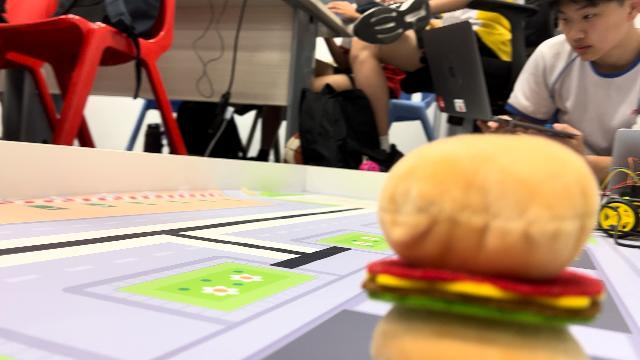burger: (363, 138, 609, 360)
